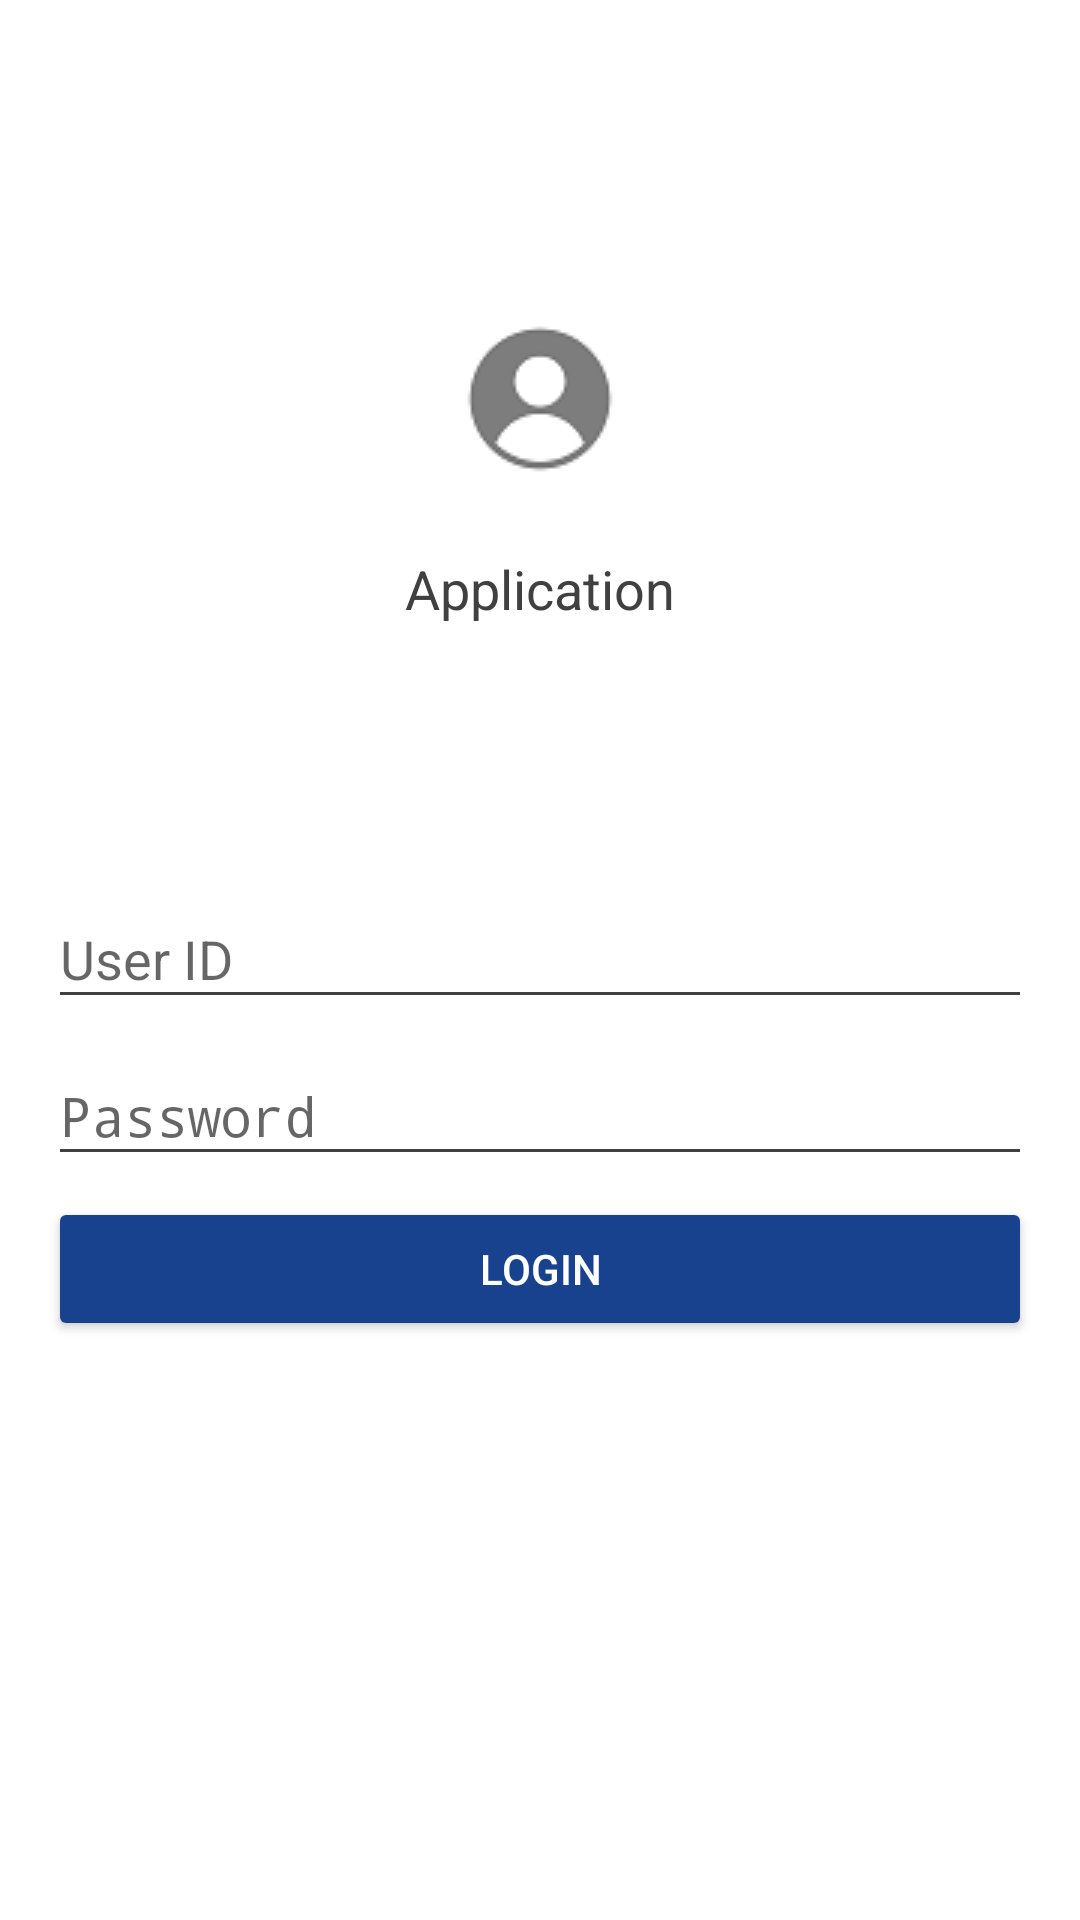

Locate icon controls on the screen. Image size 1080w x 1920h, boxes as (x1, y1, x2, y2).
user: (468, 327, 612, 471)
